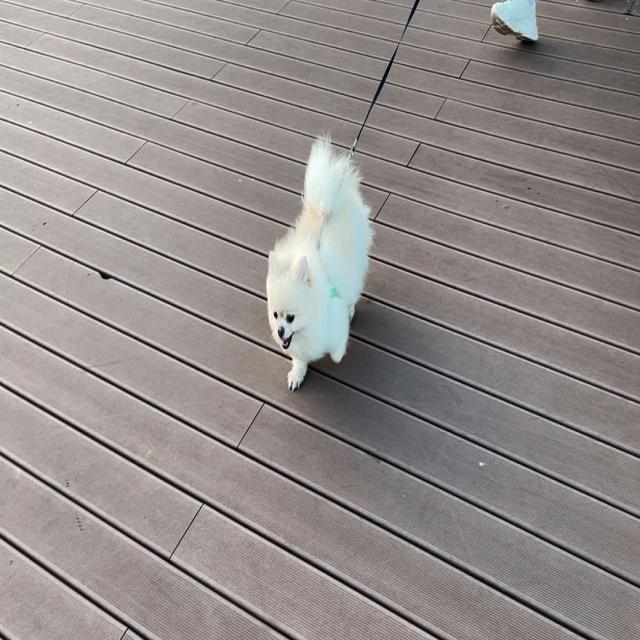Dog: (266, 133, 375, 393)
